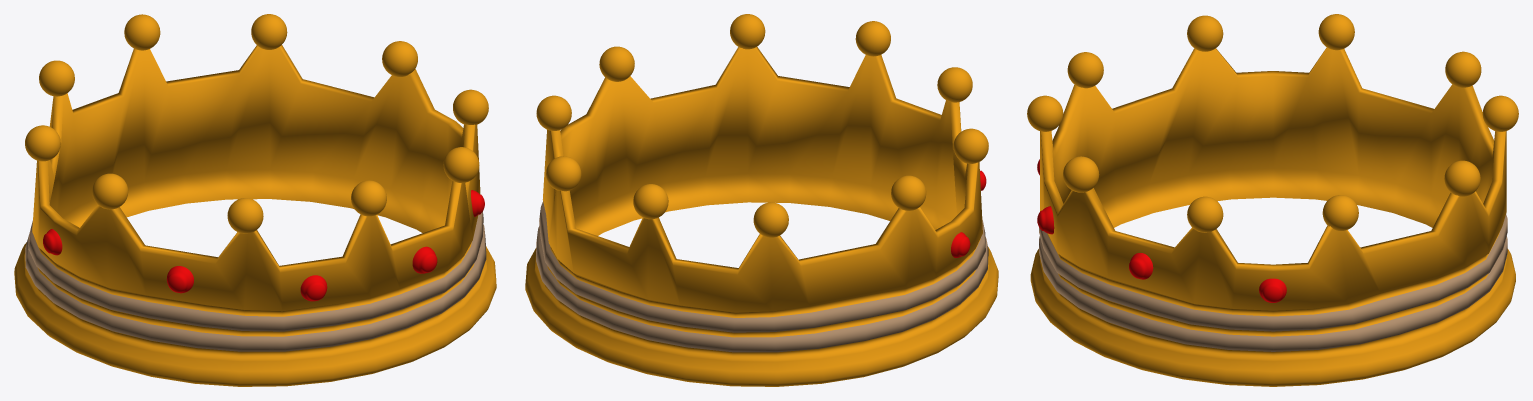
Rendered from Crown.glb.
The picture shows the model from 3 angles, left to right: view 1: azimuth 30°, elevation 25°; view 2: azimuth 150°, elevation 25°; view 3: azimuth 270°, elevation 25°; orthographic projection. The views are drawn at different scales.
Visible parts, largest first — view 1: Crown.002; view 2: Crown.002; view 3: Crown.002.
Part boxes in pixels (x1,y1,x2,y2): Crown.002: (14, 14, 496, 386); Crown.002: (525, 14, 998, 386); Crown.002: (1027, 14, 1518, 386).
Size of the model in its own units: 2.16 by 0.9372 by 2.18.
